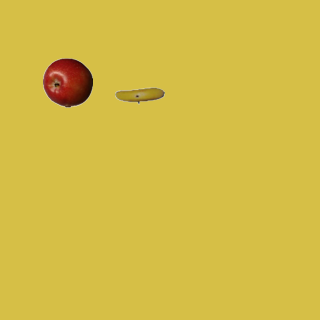Apple Braeburn: (42, 57, 92, 107)
Banana: (114, 70, 164, 120)
